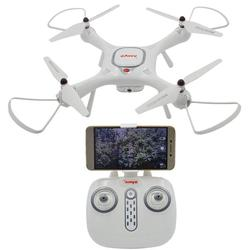drone: (6, 2, 243, 136)
